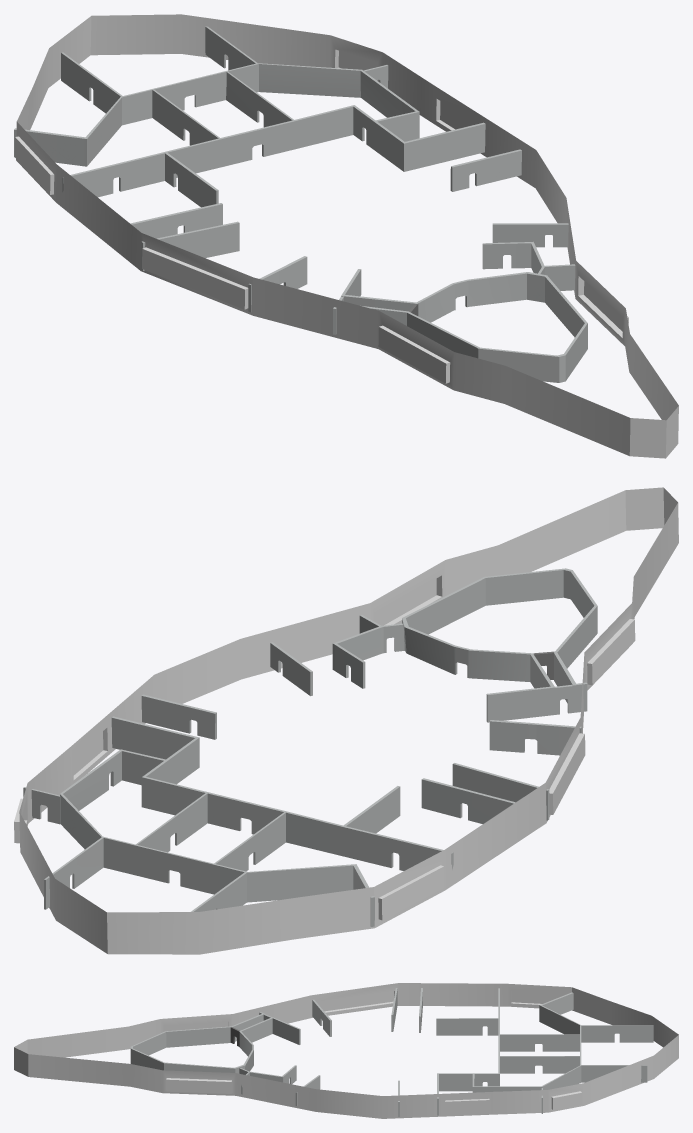
File: Paredes.fbx
3 renders of one model, top to bottom at view 1: azimuth 30°, elevation 25°; view 2: azimuth 150°, elevation 25°; view 3: azimuth 270°, elevation 25°, orthographic. The views are drawn at different scales.
Visible parts, largest first — view 1: geo_Piso__001, geo_MarcoDoor02_06, geo_MarcoDoor02_06_001, Plane_010, Plane_007, geo_MarcoDoor02_04_001, geo_MarcoDoor02_10_001, geo_MarcoDoor02_04, geo_MarcoDoor01_05; view 2: geo_Piso__001, geo_MarcoDoor02_06, geo_MarcoDoor02_06_001, Plane_010, geo_MarcoDoor02_10_001, geo_MarcoDoor01_05, geo_MarcoDoor02_04_001, Plane_007, geo_MarcoDoor02_04, geo_MarcoDoor02_05; view 3: geo_Piso__001, geo_MarcoDoor02_06, geo_MarcoDoor02_06_001, Plane_010, geo_MarcoDoor01_05.
Boxes of the visible parts, x1,y1,x2,y2 form: geo_Piso__001: [14, 14, 678, 458]; geo_MarcoDoor02_06: [14, 26, 485, 207]; geo_MarcoDoor02_06_001: [333, 269, 587, 382]; Plane_010: [482, 241, 575, 290]; Plane_007: [141, 221, 239, 270]; geo_MarcoDoor02_04_001: [450, 149, 521, 191]; geo_MarcoDoor02_10_001: [130, 203, 222, 238]; geo_MarcoDoor02_04: [492, 223, 568, 247]; geo_MarcoDoor01_05: [248, 256, 307, 312]; geo_Piso__001: [14, 487, 678, 954]; geo_MarcoDoor02_06: [44, 716, 453, 926]; geo_MarcoDoor02_06_001: [402, 568, 597, 722]; Plane_010: [332, 615, 404, 688]; geo_MarcoDoor02_10_001: [421, 778, 515, 823]; geo_MarcoDoor01_05: [489, 720, 581, 755]; geo_MarcoDoor02_04_001: [141, 694, 216, 739]; Plane_007: [452, 763, 549, 820]; geo_MarcoDoor02_04: [270, 642, 312, 696]; geo_MarcoDoor02_05: [23, 787, 60, 824]; geo_Piso__001: [14, 983, 678, 1118]; geo_MarcoDoor02_06: [436, 988, 653, 1115]; geo_MarcoDoor02_06_001: [130, 1012, 300, 1073]; Plane_010: [239, 1065, 296, 1094]; geo_MarcoDoor01_05: [312, 999, 331, 1036].
Bounding box in the file's own units: 12735 × 1455 × 31348.
3 materials, 1 textured.
